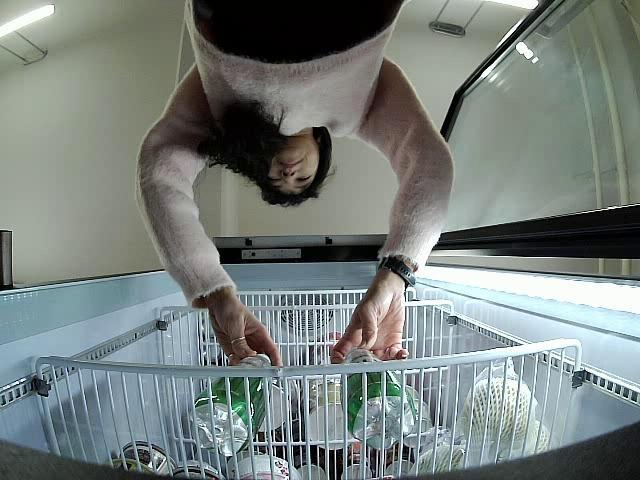18_trevi: (190, 352, 275, 455), (338, 346, 416, 446)
